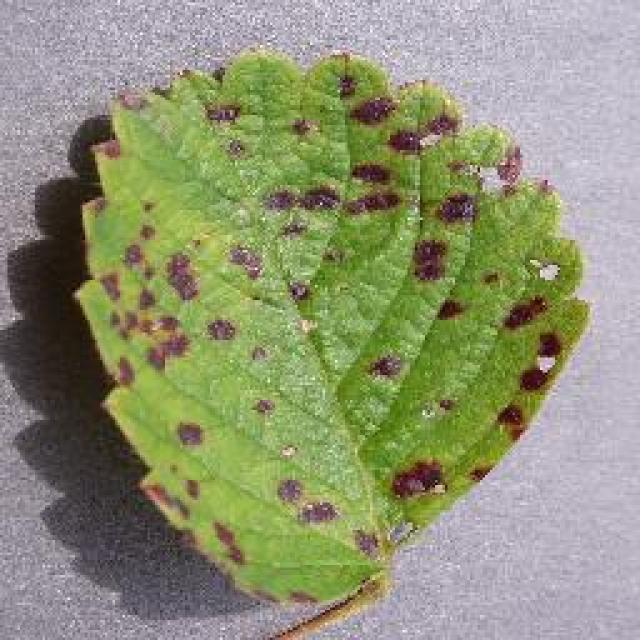Strawberry leaf scorch: (75, 103, 528, 500)
